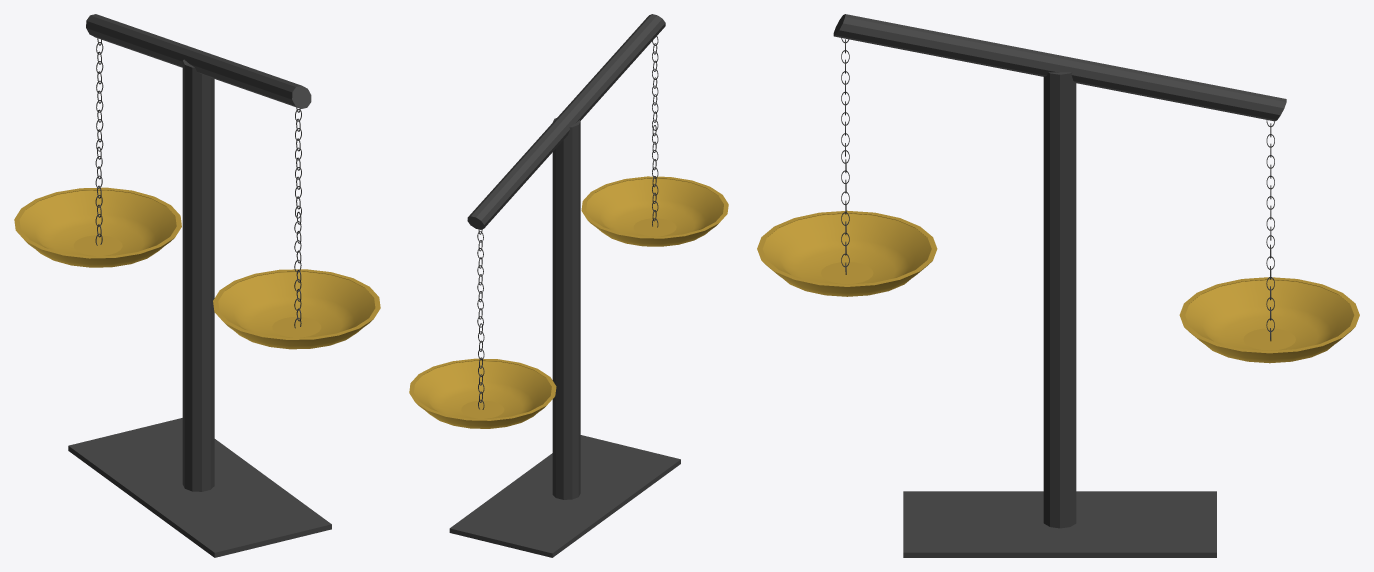
Rendered from Scales.fbx.
3 views of the same model, side by side, from view 1: azimuth 30°, elevation 25°; view 2: azimuth 150°, elevation 25°; view 3: azimuth 270°, elevation 25° (orthographic). The views are drawn at different scales.
Visible parts, largest first — view 1: pCylinder45; view 2: pCylinder45; view 3: pCylinder45.
Part boxes in pixels (left/top/right/bottom): pCylinder45: left=14, top=14, right=380, bottom=557; pCylinder45: left=409, top=14, right=728, bottom=557; pCylinder45: left=757, top=14, right=1359, bottom=557.
Size of the model in its own units: 0.8618 by 2.67 by 2.85.
